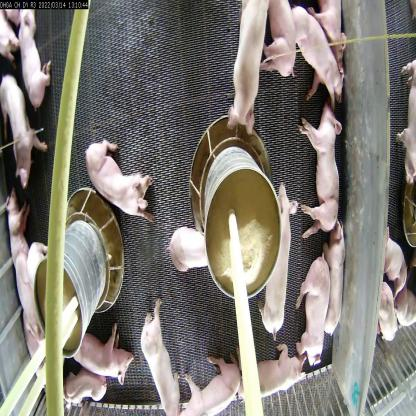Pig: (85, 117, 160, 235), (286, 98, 346, 235), (212, 335, 305, 410), (224, 0, 270, 147), (9, 0, 59, 135), (0, 67, 46, 190), (288, 13, 346, 110), (298, 246, 336, 382), (177, 352, 254, 415), (8, 236, 44, 366), (160, 215, 216, 292), (142, 292, 176, 415), (81, 326, 138, 392), (324, 229, 354, 335), (260, 0, 294, 72), (66, 352, 110, 407)
